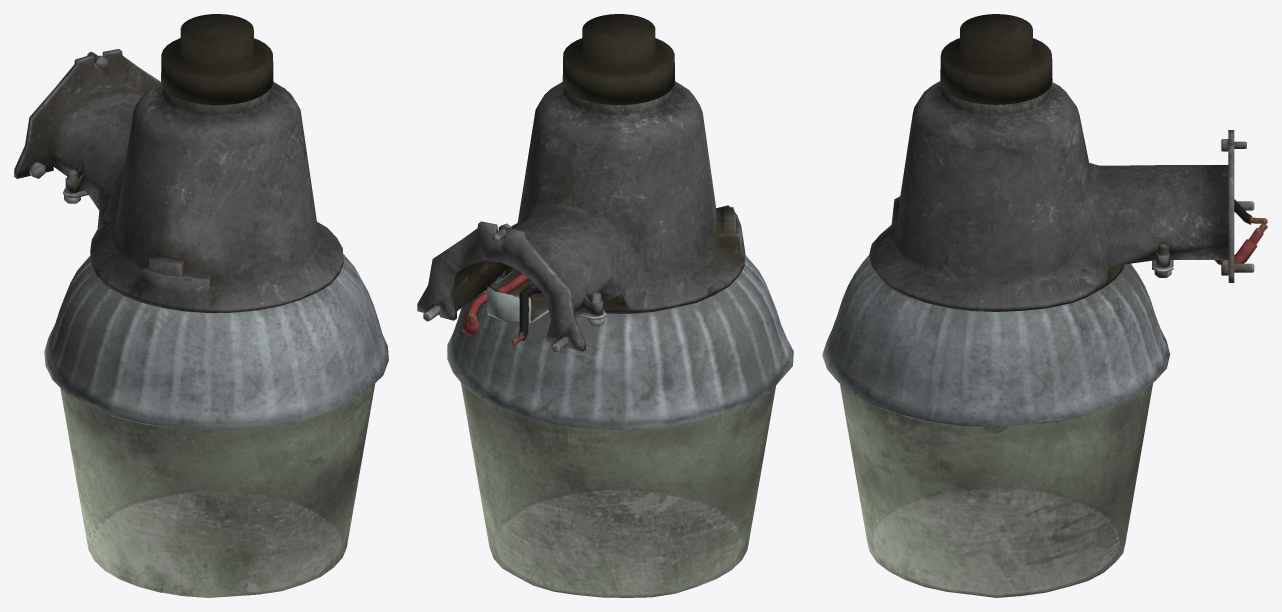
File: security_light.gltf
3 renders of one model, left to right at view 1: azimuth 30°, elevation 25°; view 2: azimuth 150°, elevation 25°; view 3: azimuth 270°, elevation 25°, orthographic.
Visible parts, largest first — view 1: security_light, security_light_glass; view 2: security_light, security_light_glass; view 3: security_light, security_light_glass.
Part boxes in pixels (box(x1,y1,x2,y2)): security_light: box(14, 14, 388, 432); security_light_glass: box(60, 383, 375, 597); security_light: box(417, 14, 793, 430); security_light_glass: box(461, 383, 775, 597); security_light: box(822, 14, 1267, 432); security_light_glass: box(840, 383, 1152, 597).
Size of the model in its own units: 0.3231 by 0.531 by 0.4172.
3 materials, 3 textured.
